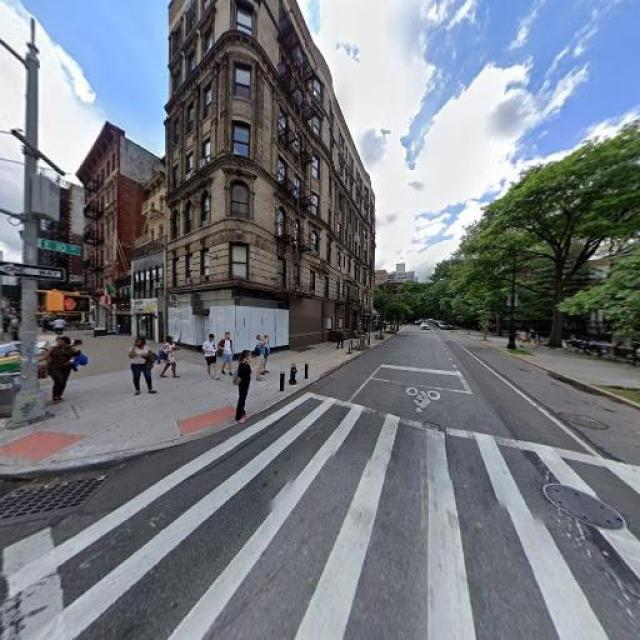Building: (170, 1, 377, 354)
